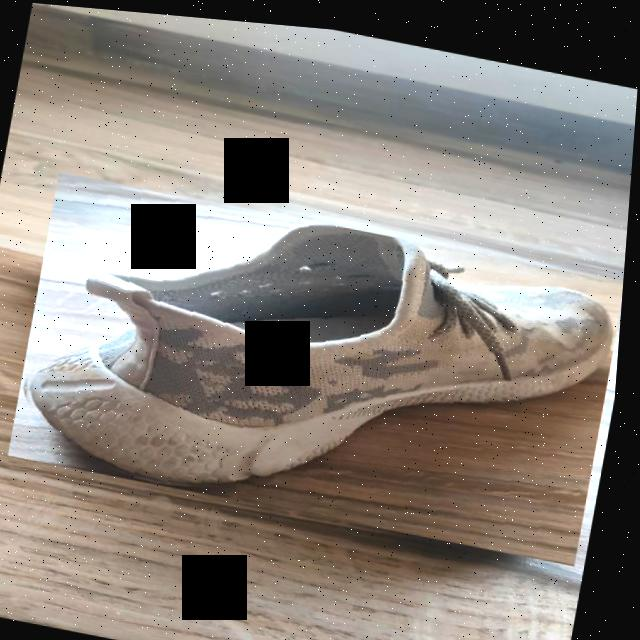shoe: (10, 168, 630, 557)
